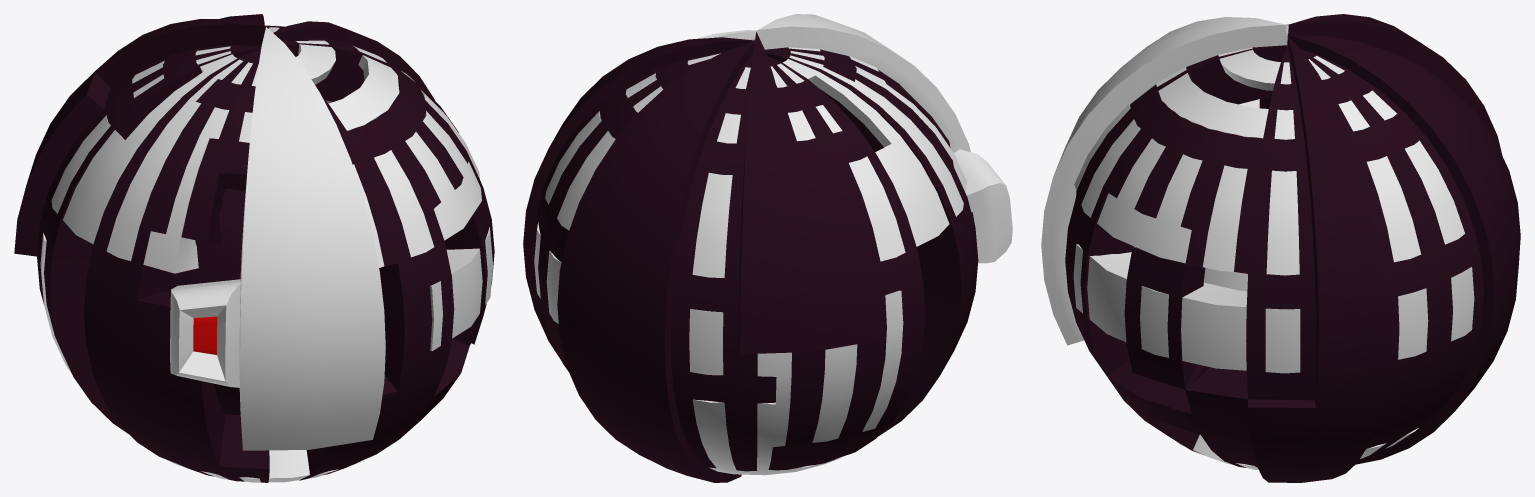
The model's file is bot.fbx.
3 renders of one model, left to right at view 1: azimuth 30°, elevation 25°; view 2: azimuth 150°, elevation 25°; view 3: azimuth 270°, elevation 25°, orthographic. The views are drawn at different scales.
Parts seen in each view (by area): view 1: pSphere4, pSphere3; view 2: pSphere4, pSphere3; view 3: pSphere4, pSphere3.
Boxes of the visible parts, left/top/right/bottom form: pSphere4: left=14, top=14, right=494, bottom=482; pSphere3: left=40, top=25, right=492, bottom=482; pSphere4: left=523, top=32, right=978, bottom=482; pSphere3: left=534, top=14, right=1012, bottom=475; pSphere4: left=1065, top=14, right=1520, bottom=482; pSphere3: left=1041, top=17, right=1474, bottom=469.
Bounding box in the file's own units: 4.06 × 4.3 × 4.28.
